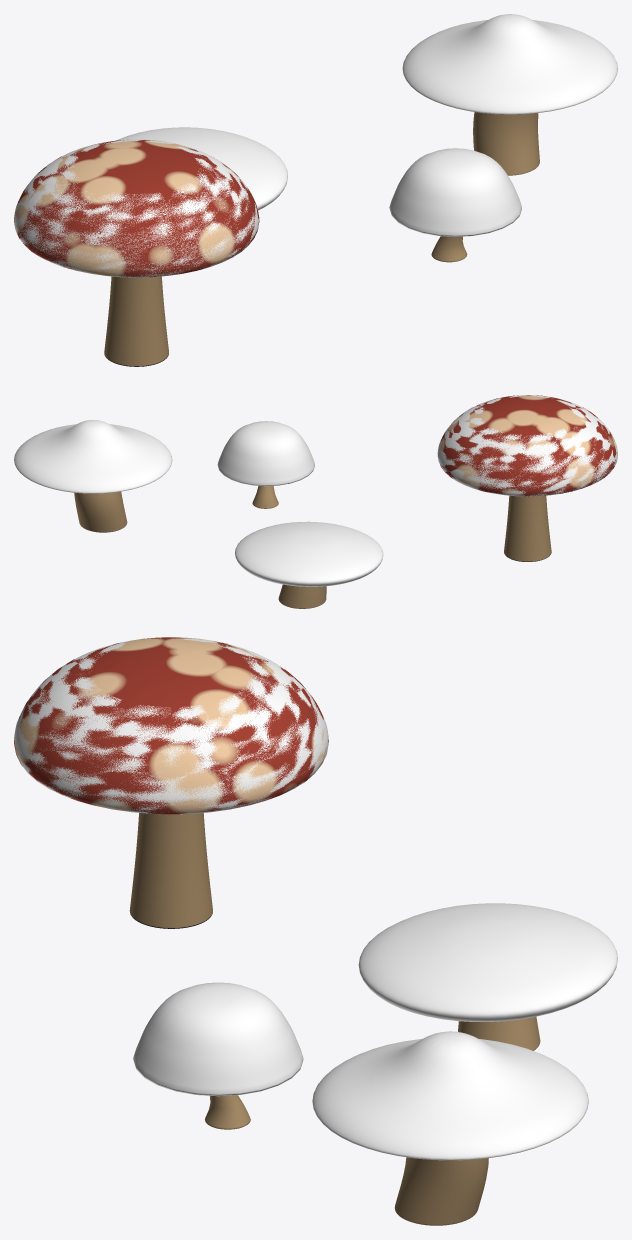
The model's file is fairy_ring.glb.
The picture shows the model from 3 angles, top to bottom: view 1: azimuth 30°, elevation 25°; view 2: azimuth 150°, elevation 25°; view 3: azimuth 270°, elevation 25°; orthographic projection. The views are drawn at different scales.
Parts seen in each view (by area): view 1: Bake1, Mushroom3, Mushroom1, Mushroom2, Mushroom4; view 2: Bake1, Mushroom3, Mushroom1, Mushroom4, Mushroom2; view 3: Bake1, Mushroom3, Mushroom4, Mushroom1, Mushroom2.
Boxes of the visible parts, left/top/right/bottom form: Bake1: left=14, top=139, right=259, bottom=366; Mushroom3: left=402, top=14, right=617, bottom=175; Mushroom1: left=14, top=139, right=258, bottom=365; Mushroom2: left=389, top=148, right=521, bottom=262; Mushroom4: left=116, top=127, right=287, bottom=210; Bake1: left=437, top=395, right=617, bottom=561; Mushroom3: left=14, top=420, right=172, bottom=532; Mushroom1: left=437, top=395, right=617, bottom=561; Mushroom4: left=235, top=521, right=383, bottom=608; Mushroom2: left=217, top=421, right=314, bottom=508; Bake1: left=14, top=637, right=328, bottom=928; Mushroom3: left=312, top=1031, right=588, bottom=1225; Mushroom4: left=358, top=903, right=617, bottom=1050; Mushroom1: left=14, top=637, right=328, bottom=926; Mushroom2: left=133, top=982, right=303, bottom=1129.
Size of the model in its own units: 23.08 by 6.68 by 13.8.
Materials: 3 (1 with a texture image).
